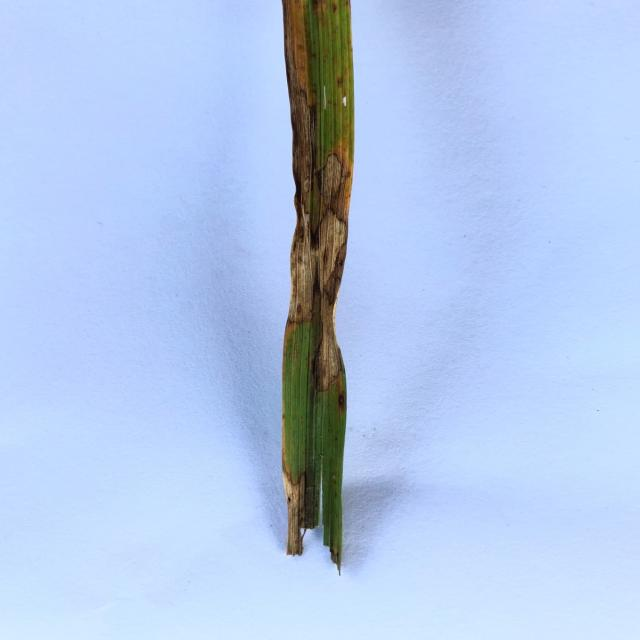Leaf Blight: (282, 0, 353, 421), (279, 419, 306, 557)
